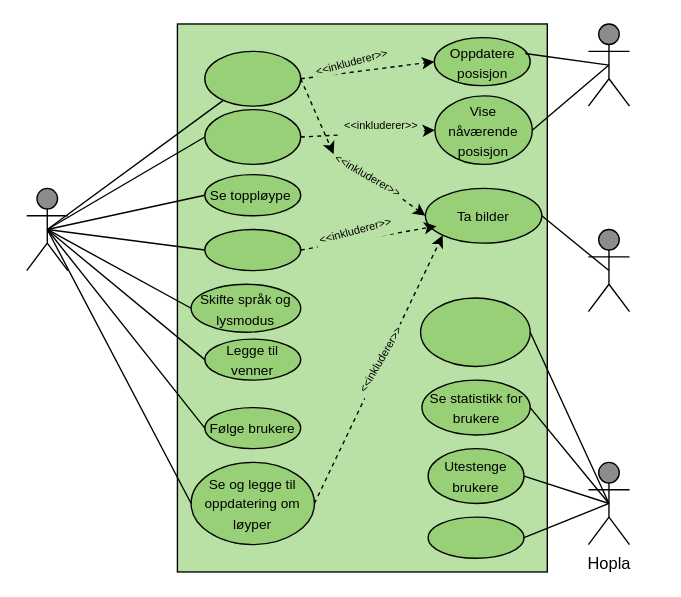
Some shapes in this 681 by 597 pixel diagram are drawn without their labels. The shapes that lost their labels are listed below. From the top down, each one's centre as x and y in pixels, then its label:
At (252,78): "Legge til og endre løyper".
At (608,64): "GPS".
At (252,136): "Finne tilgjengelige løyper".
At (46,229): "Bruker".
At (252,249): "Registrere hester".
At (608,270): "MobilKamera".
At (474,331): "Endre informasjon om løyper".
At (475,537): "Slette løyper".
